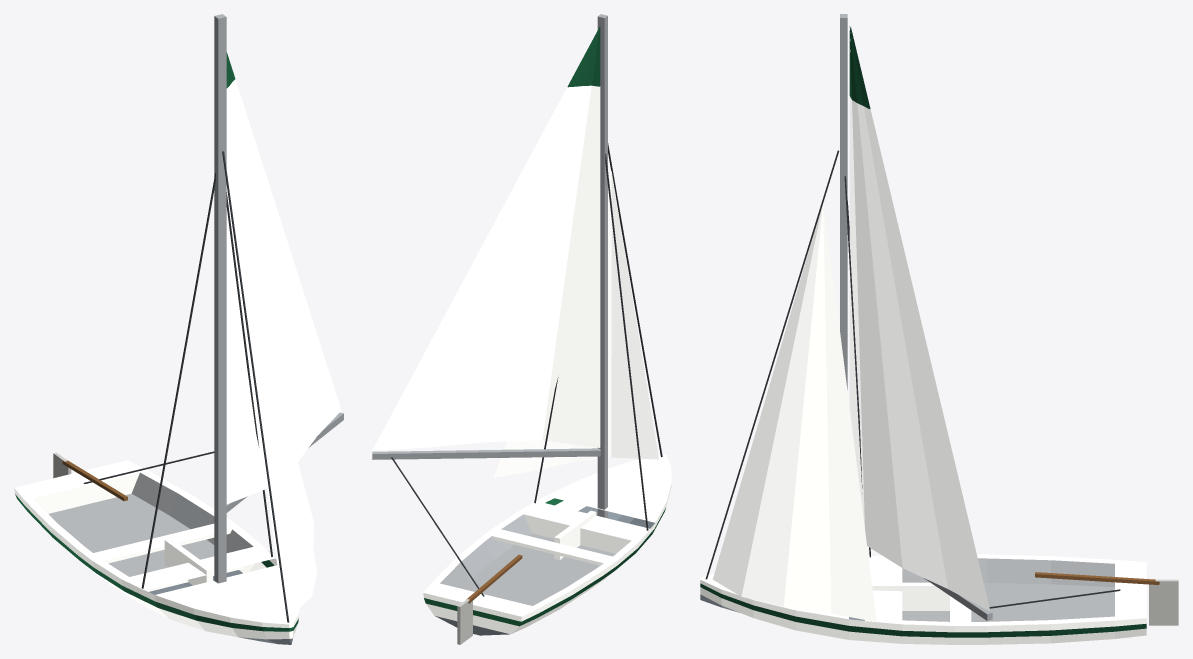
Rendered from sailboat-green-run.glb.
3 views of the same model, side by side, from view 1: azimuth 30°, elevation 25°; view 2: azimuth 150°, elevation 25°; view 3: azimuth 270°, elevation 25° (orthographic). The views are drawn at different scales.
Visible parts, largest first — view 1: sailboat-green; view 2: sailboat-green; view 3: sailboat-green.
Boxes of the visible parts, bbox=[...] form: sailboat-green: bbox=[14, 14, 343, 644]; sailboat-green: bbox=[372, 14, 671, 644]; sailboat-green: bbox=[700, 14, 1178, 644].
Bounding box in the file's own units: 2.94 × 6.36 × 4.5.
